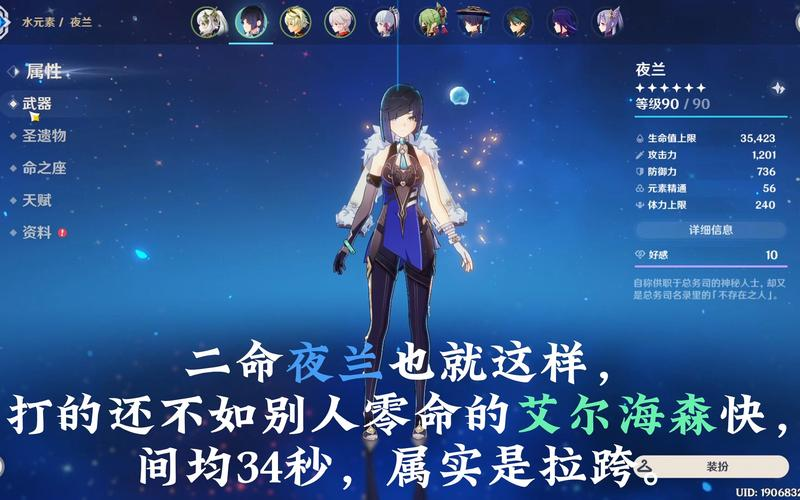夜兰: (336, 77, 474, 452), (238, 1, 271, 42)
